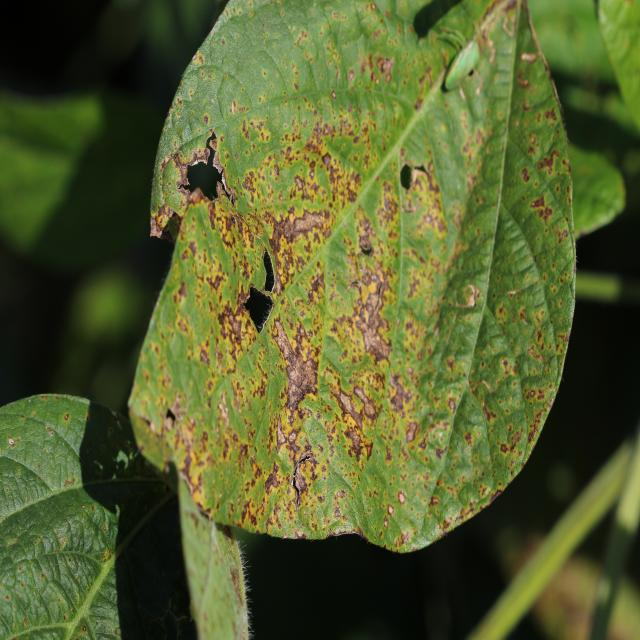Bacterial_Blight: (273, 369, 351, 515), (340, 267, 394, 380), (264, 207, 329, 299), (401, 166, 450, 284), (275, 320, 326, 407), (182, 132, 233, 207), (327, 376, 374, 444), (278, 207, 329, 240), (358, 51, 392, 87), (217, 302, 243, 348), (160, 392, 187, 436), (525, 402, 551, 445), (240, 113, 270, 146), (153, 204, 180, 235), (264, 462, 282, 497), (529, 191, 552, 218), (536, 150, 558, 176), (499, 437, 518, 455), (276, 419, 287, 449), (229, 98, 247, 116), (405, 421, 419, 443), (294, 175, 305, 192), (520, 52, 537, 63), (556, 229, 568, 244), (321, 152, 332, 168), (520, 167, 530, 183), (63, 476, 76, 487), (435, 447, 446, 460), (429, 495, 440, 507), (400, 531, 410, 544), (447, 398, 457, 411), (397, 491, 406, 504), (387, 504, 394, 516), (348, 70, 355, 81), (528, 389, 536, 398), (64, 413, 70, 420)
Soybean: (127, 0, 581, 556)
